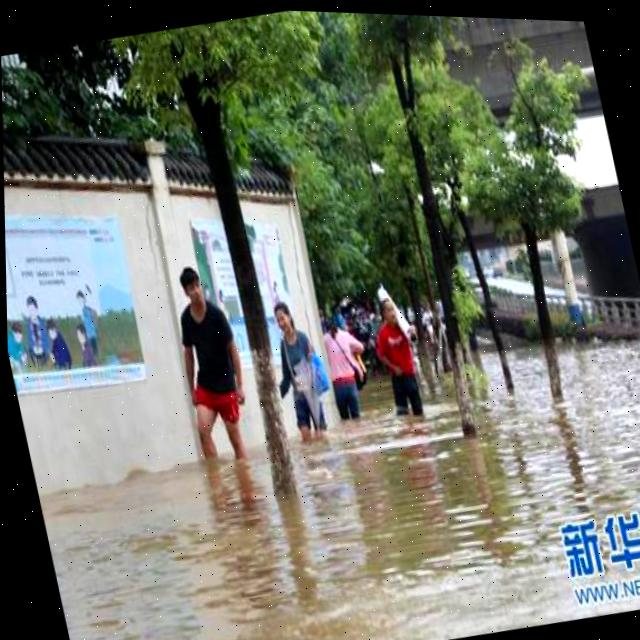civilian: (154, 247, 263, 474), (260, 290, 334, 446), (310, 301, 383, 432), (362, 291, 432, 421)
